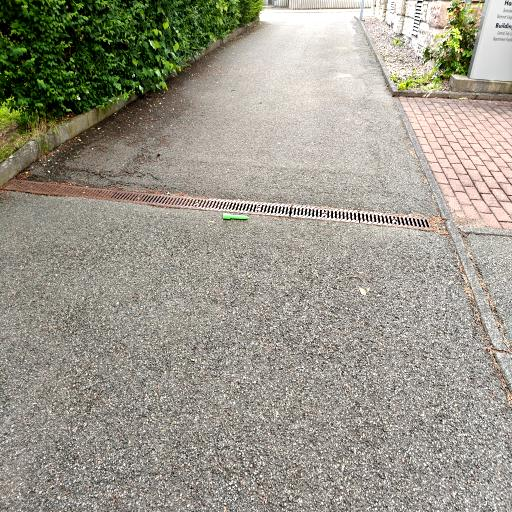Probe-Detection: (223, 213, 249, 220)
